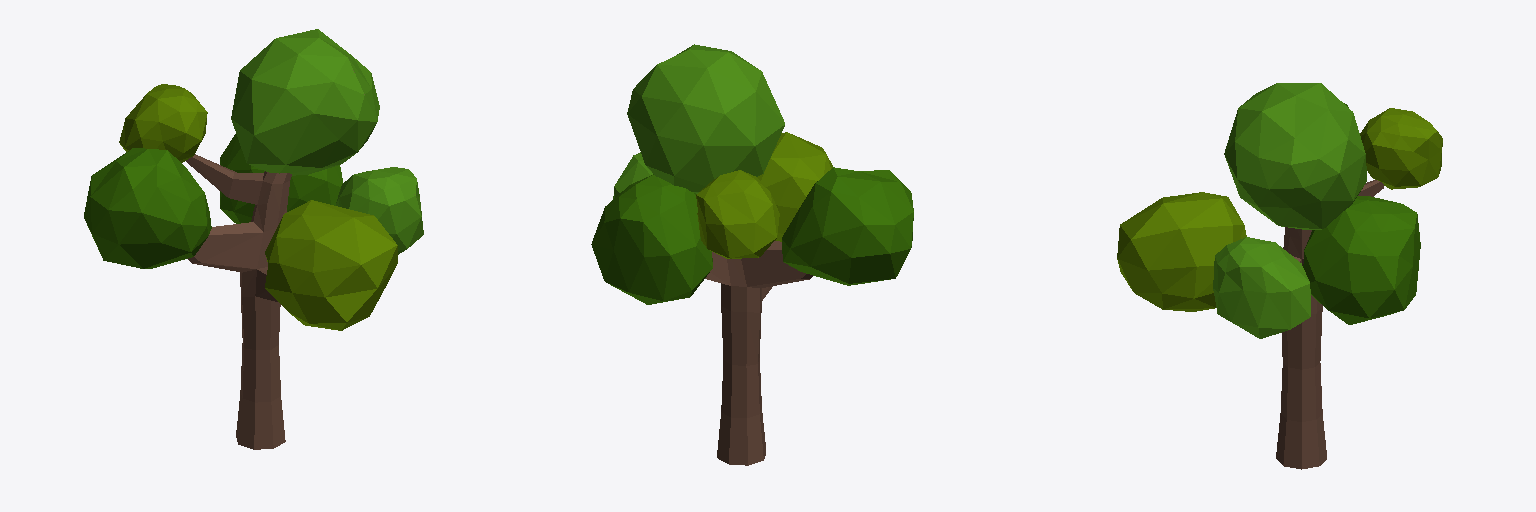
3 views of the same model, side by side, from view 1: azimuth 30°, elevation 25°; view 2: azimuth 150°, elevation 25°; view 3: azimuth 270°, elevation 25° (orthographic).
Visible parts, largest first — view 1: Broad_deciduous_tree_green_leaves; view 2: Broad_deciduous_tree_green_leaves; view 3: Broad_deciduous_tree_green_leaves.
Boxes of the visible parts, x1,y1,x2,y2 form: Broad_deciduous_tree_green_leaves: [84, 29, 423, 449]; Broad_deciduous_tree_green_leaves: [591, 44, 913, 465]; Broad_deciduous_tree_green_leaves: [1117, 83, 1442, 469].
Size of the model in its own units: 2.32 by 2.81 by 2.13.
1 materials, 1 textured.